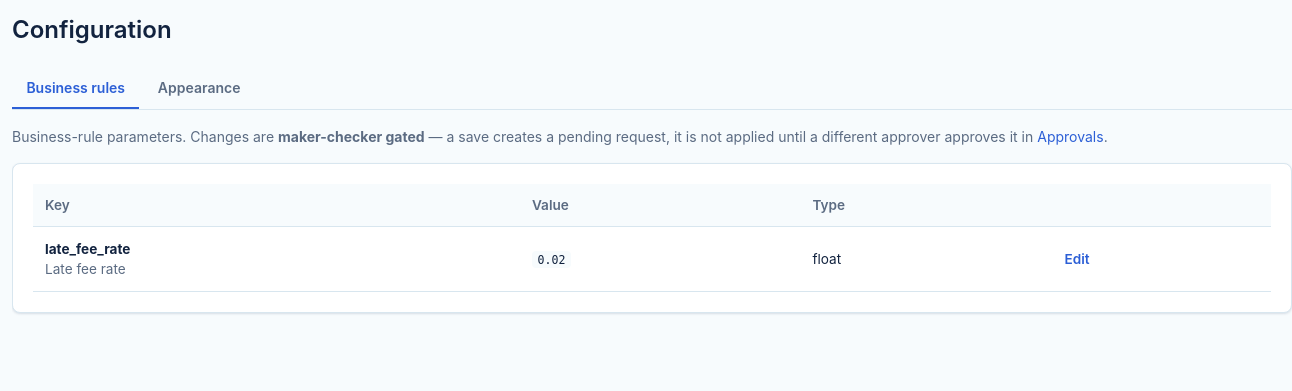
it: Config management › shows a pending-approval message, not an immediate save
The width and height of the screenshot is (1292, 391).
Click the button with test id "config-edit-late_fee_rate": [1077, 259] box [1064,249,1090,269]
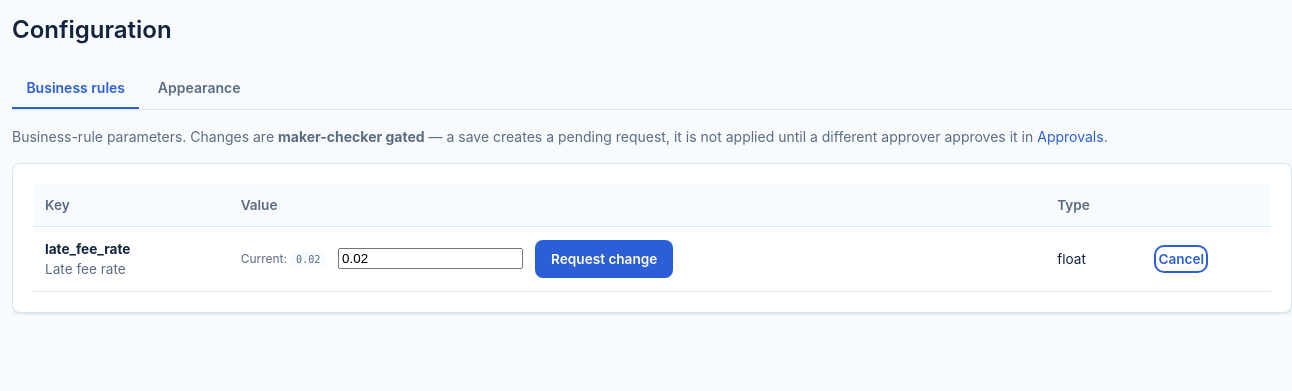
Replace the text in the field named "new value for late_fee_rate" with "0.03": [431, 259] box [338,248,523,269]
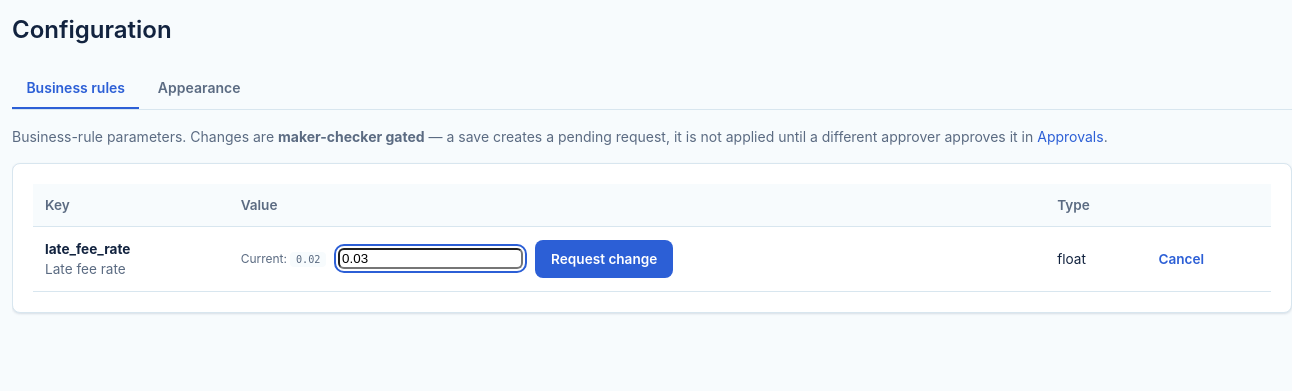
Click the button "Request change": [604, 259] box [535,240,673,278]
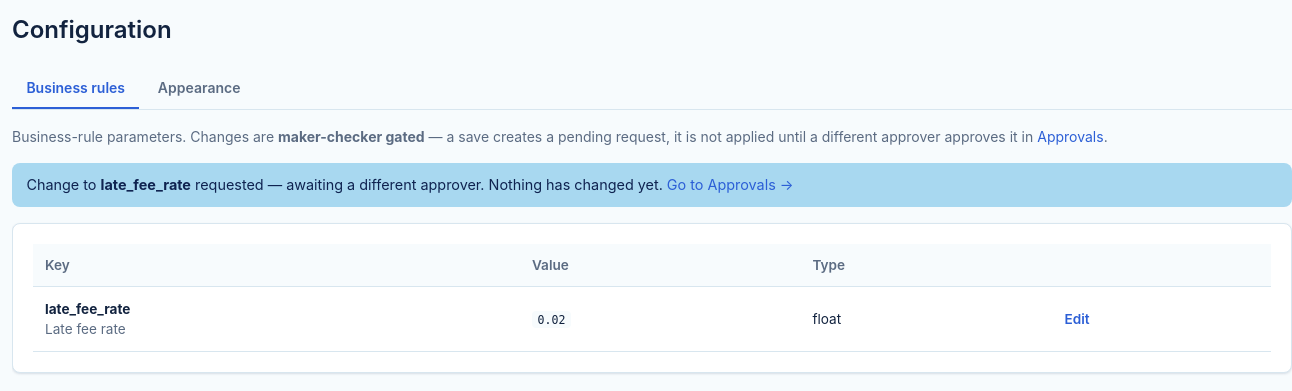
Expected: the element with test id "config-pending" shows "awaiting a different approver", [191,176,663,193]
